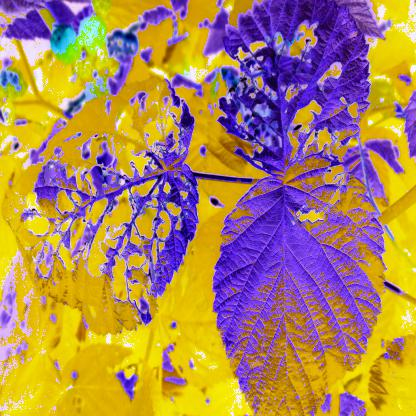Raspberry leaf: (214, 173, 387, 416)
